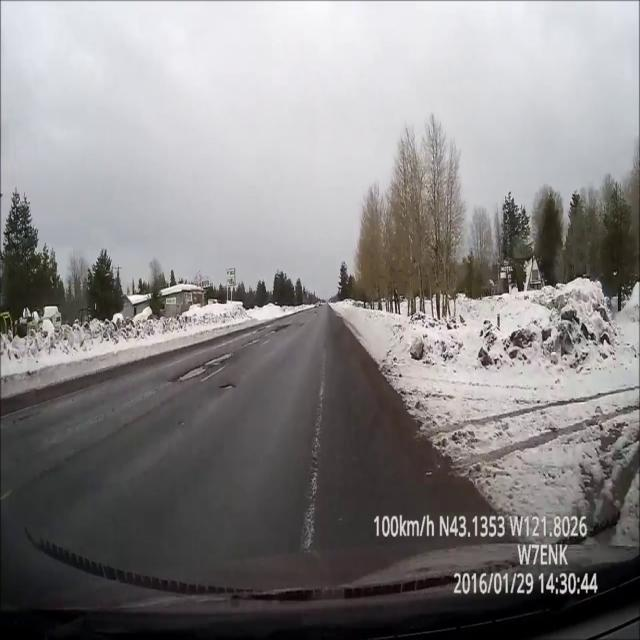Pothole: (170, 364, 208, 384), (208, 351, 232, 367), (269, 322, 290, 334), (244, 338, 259, 347), (219, 384, 236, 391), (300, 322, 305, 328), (314, 312, 318, 314)
